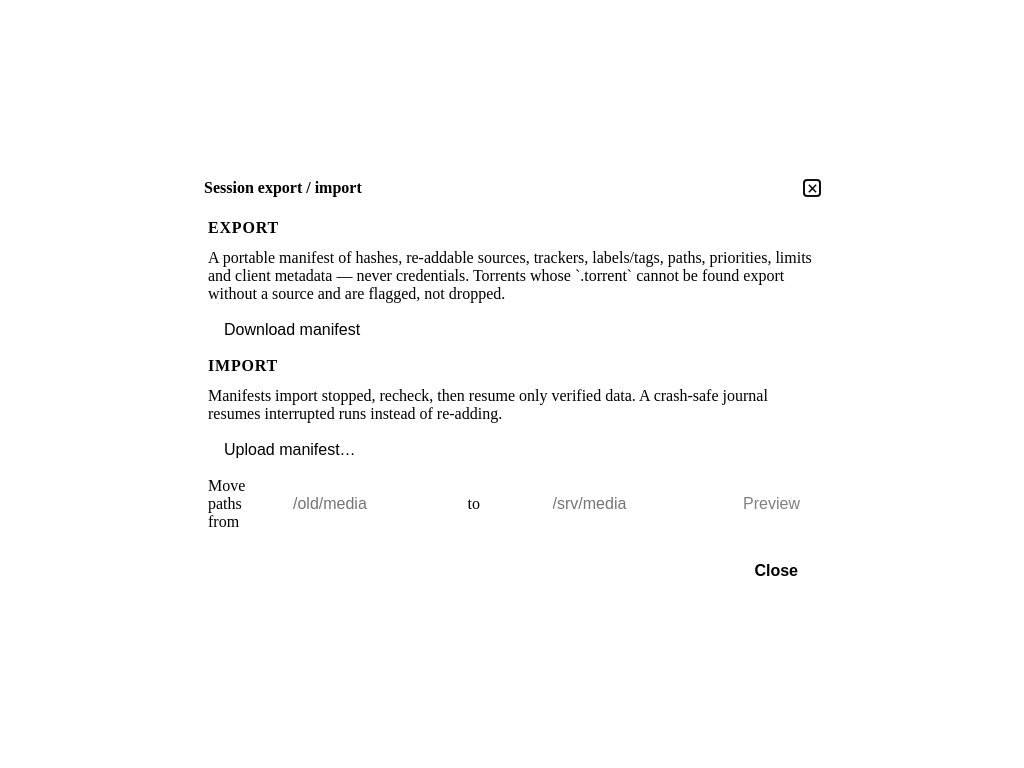
SessionDialog › downloads the exported manifest
This screenshot has width=1024, height=768.
Click the button "Download manifest" at (292, 330), box [208, 315, 376, 345]
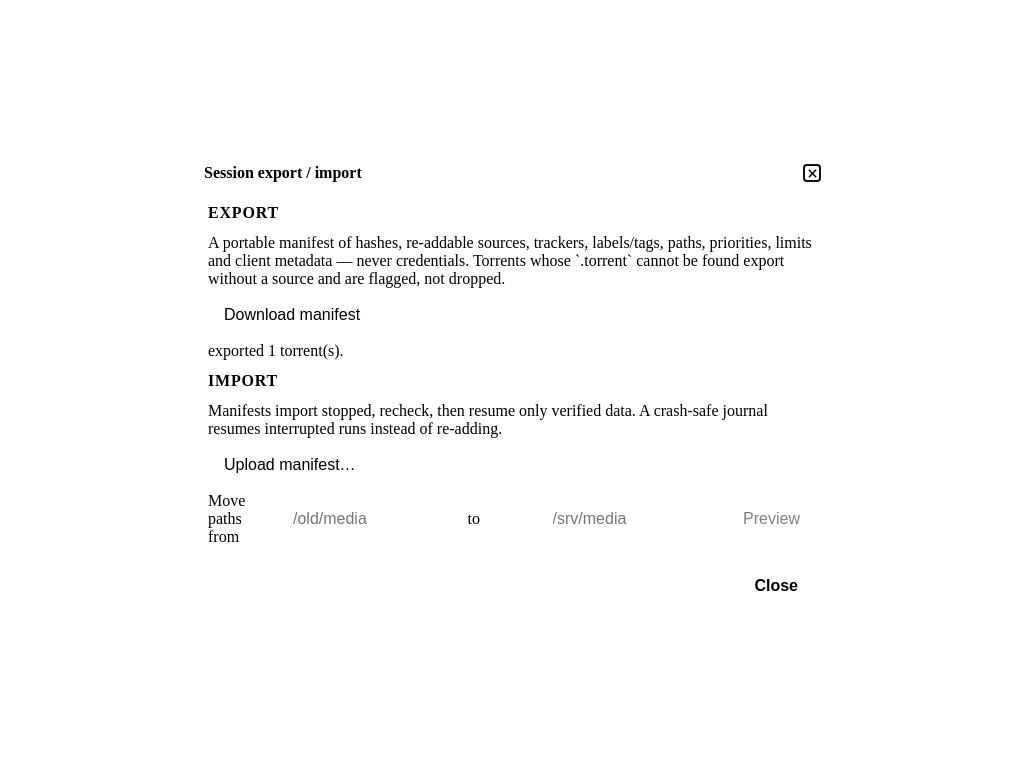
Expected: the text "exported 1 torrent(s)" is shown, [208, 342, 344, 359]
